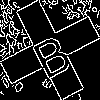B: (25, 25, 76, 81)
